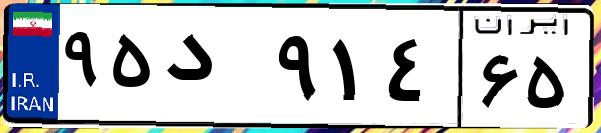1: (330, 28, 385, 110)
4: (385, 28, 445, 110)
5: (525, 38, 570, 115), (110, 28, 158, 98)
6: (475, 38, 525, 113)
9: (270, 28, 330, 110), (57, 26, 110, 100)
د: (158, 20, 270, 120)
